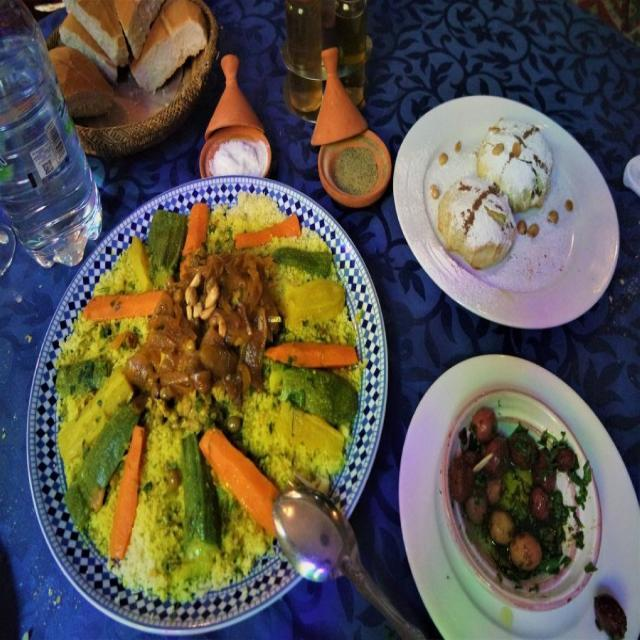ceramic plate: (0, 125, 391, 640), (368, 341, 634, 640), (390, 82, 620, 381)
